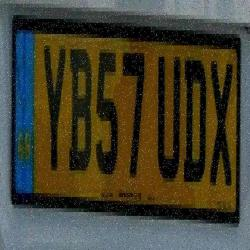LicensePlate: (42, 46, 68, 174)
